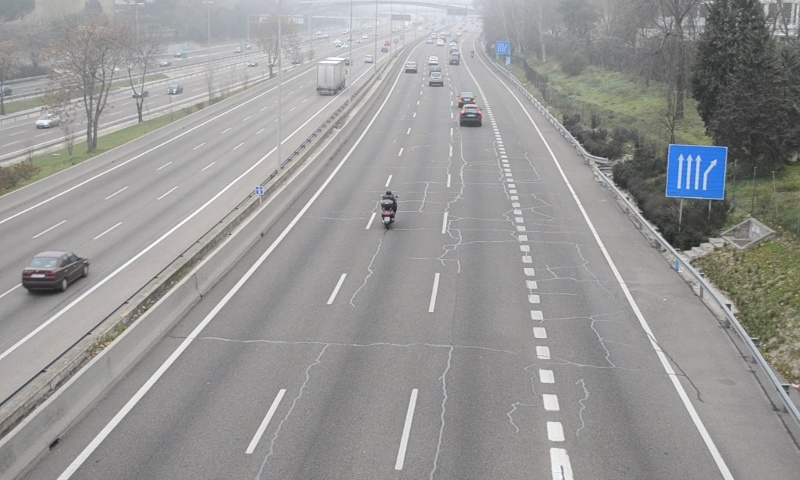car: (459, 104, 481, 124), (458, 92, 476, 106)
motorcycle: (378, 188, 398, 230)
